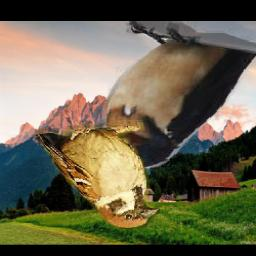Sparrow: (35, 121, 160, 230)
Swallow: (71, 21, 256, 170)
